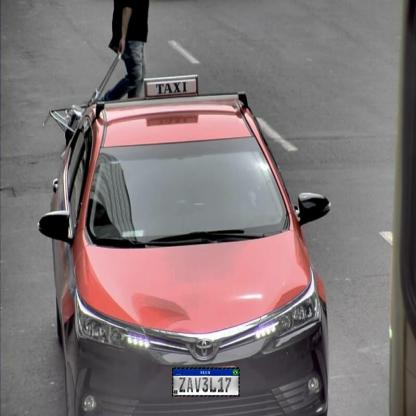PlacaM: (172, 367, 240, 396)
